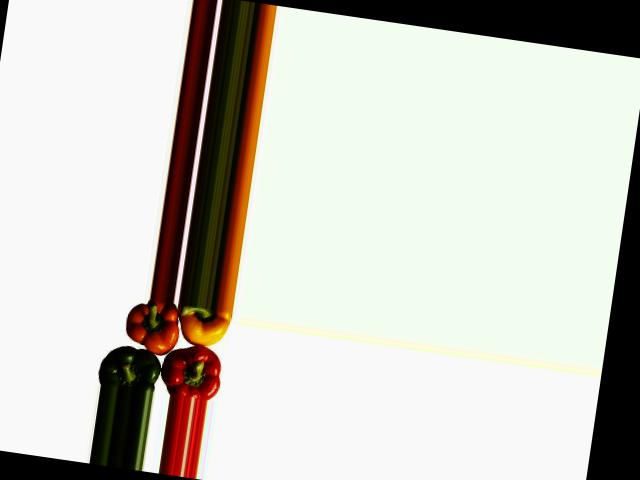bell_pepper: (170, 302, 234, 352)
